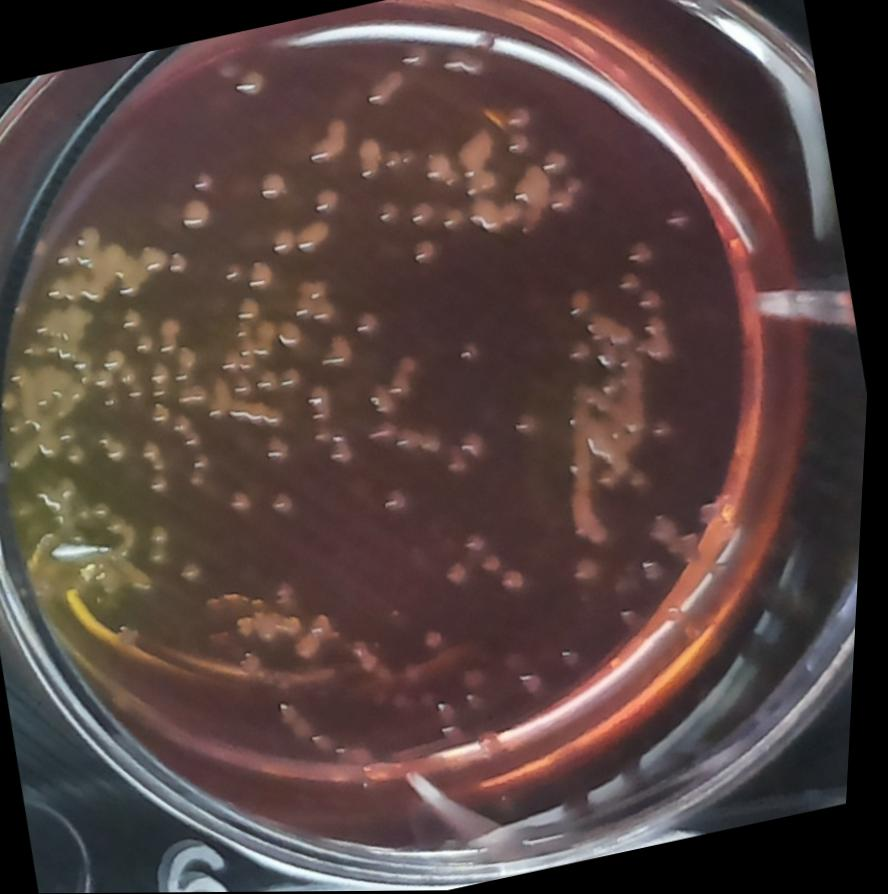vharveyi: (228, 484, 268, 525), (270, 485, 310, 523)
